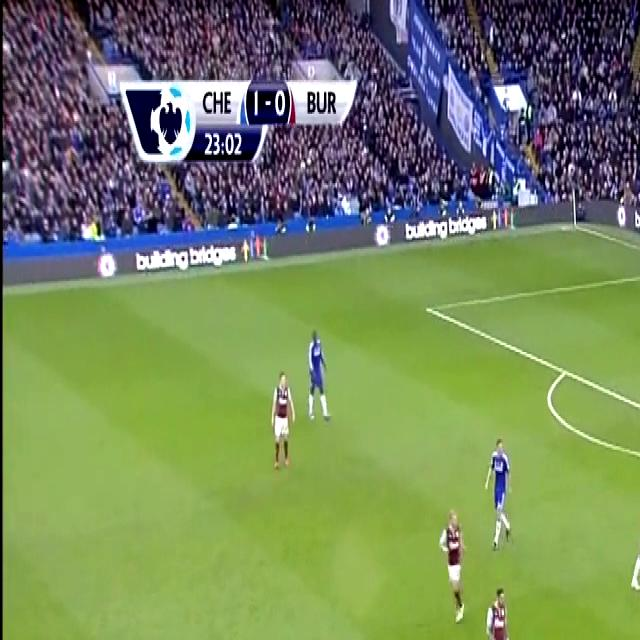soccer-player: (477, 423, 516, 552), (436, 499, 472, 627), (303, 320, 336, 426), (264, 362, 294, 477), (475, 576, 519, 640), (624, 468, 640, 602)
